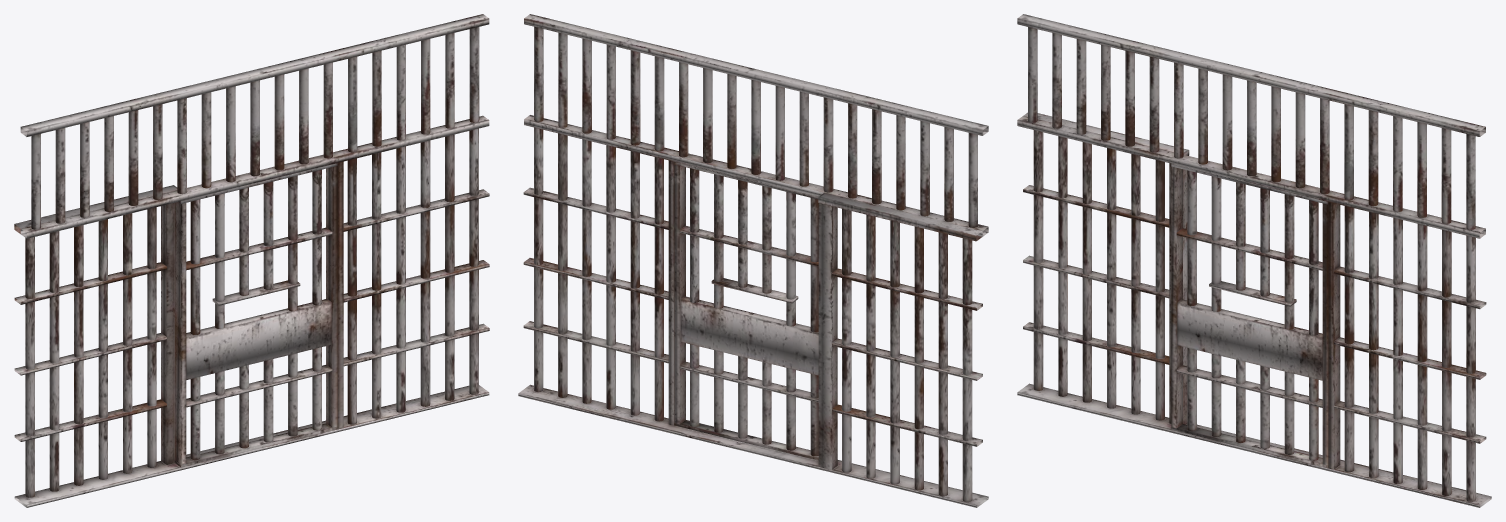
Rendered from cell-door.glb.
The picture shows the model from 3 angles, left to right: view 1: azimuth 30°, elevation 25°; view 2: azimuth 150°, elevation 25°; view 3: azimuth 330°, elevation 25°; orthographic projection.
Visible parts, largest first — view 1: Bars; view 2: Bars; view 3: Bars.
Part boxes in pixels (left/top/right/bottom): Bars: left=14, top=14, right=489, bottom=507; Bars: left=518, top=14, right=988, bottom=507; Bars: left=1017, top=14, right=1491, bottom=507.
Size of the model in its own units: 3.09 by 2.4 by 0.1451.
Materials: 1 (1 with a texture image).
